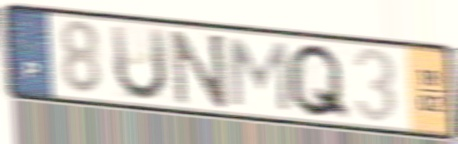3: (351, 46, 403, 128)
8: (57, 17, 103, 99)
M: (226, 35, 293, 115)
N: (168, 27, 231, 110)
Q: (284, 41, 354, 123)
U: (107, 22, 171, 104)
